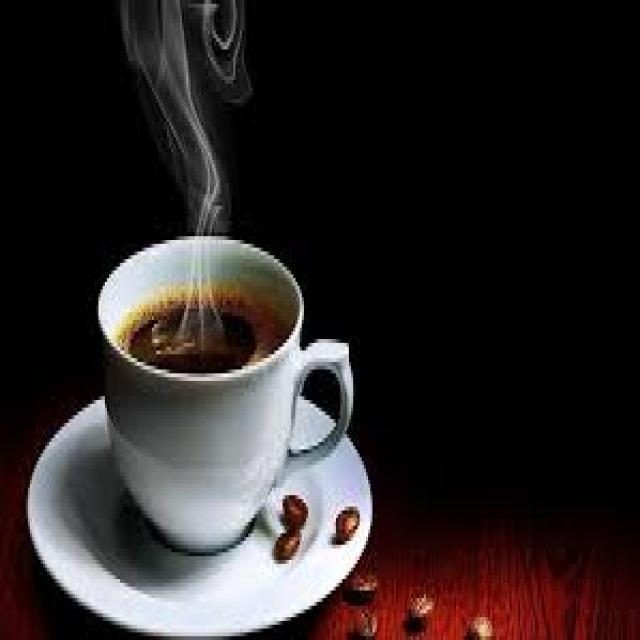taza: (94, 232, 364, 556)
